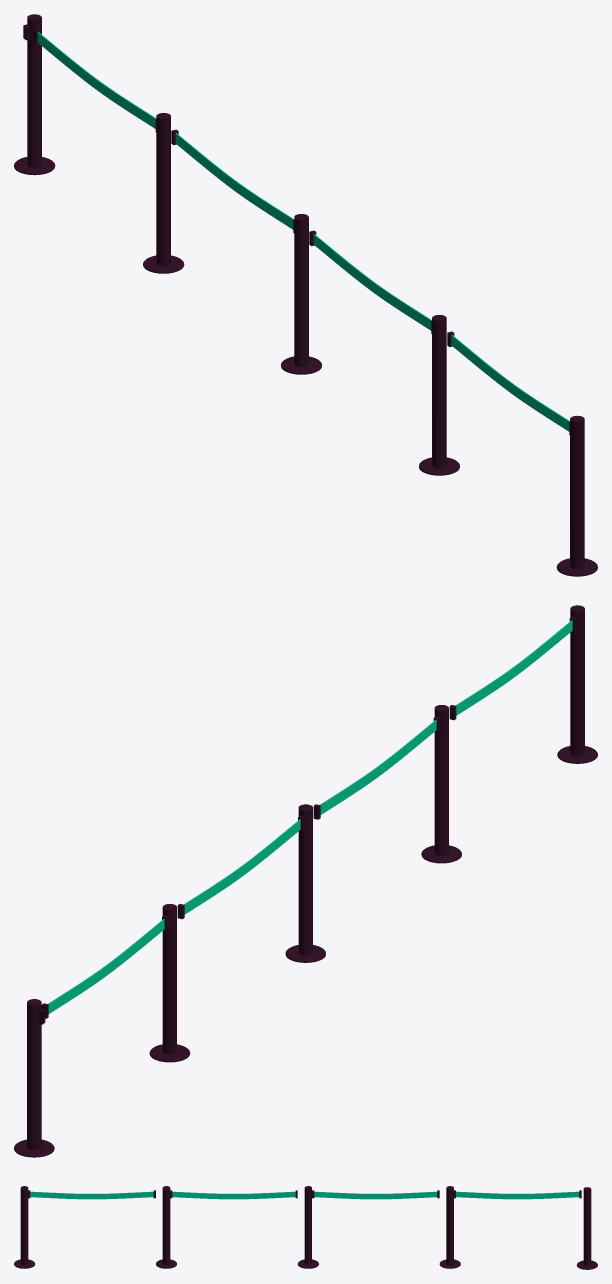
Rendered from StandingBarrier.fbx.
The picture shows the model from 3 angles, top to bottom: view 1: azimuth 30°, elevation 25°; view 2: azimuth 150°, elevation 25°; view 3: azimuth 270°, elevation 25°; orthographic projection. The views are drawn at different scales.
Parts seen in each view (by area): view 1: StandingBarrier02.004; view 2: StandingBarrier02.004; view 3: StandingBarrier02.004.
Boxes of the visible parts, x1,y1,x2,y2 form: StandingBarrier02.004: (14, 14, 597, 576); StandingBarrier02.004: (14, 605, 597, 1157); StandingBarrier02.004: (14, 1186, 597, 1269).
Bounding box in the file's own units: 0.7433 × 2.65 × 18.28.
Materials: 1 (1 with a texture image).
